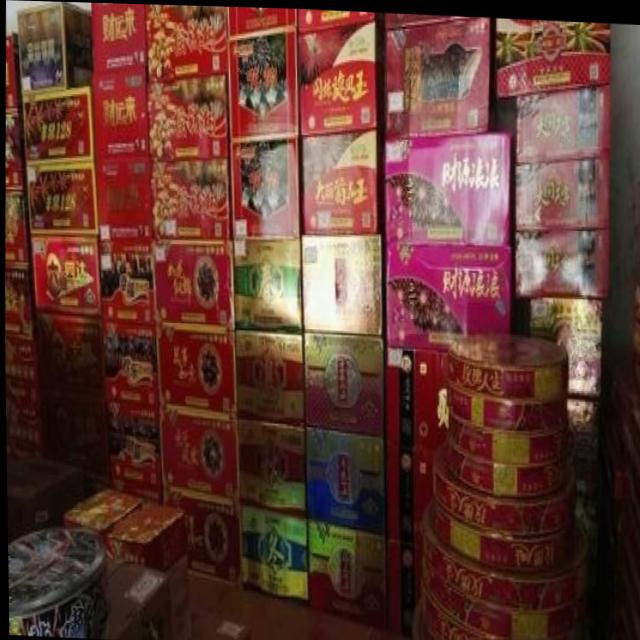box: (384, 123, 513, 243), (385, 240, 522, 349), (382, 14, 495, 134), (297, 16, 383, 135), (495, 15, 610, 93), (305, 516, 384, 626), (301, 127, 383, 231), (304, 425, 382, 532), (302, 329, 381, 434), (300, 229, 380, 332), (145, 68, 229, 162), (227, 26, 297, 138), (150, 237, 234, 330), (161, 483, 238, 582), (236, 499, 307, 604), (515, 79, 609, 158), (157, 404, 236, 497), (515, 154, 609, 231), (154, 325, 236, 413), (529, 294, 601, 394), (5, 452, 83, 544), (229, 134, 298, 237), (16, 1, 91, 95), (148, 155, 231, 238), (236, 413, 303, 514), (232, 236, 301, 333), (384, 345, 448, 449), (515, 224, 608, 295), (234, 330, 303, 425), (102, 497, 186, 573), (145, 3, 227, 79), (102, 397, 161, 502), (43, 386, 107, 481), (29, 232, 101, 316), (35, 309, 102, 397), (21, 83, 93, 164), (103, 557, 170, 639), (25, 162, 98, 235), (385, 434, 432, 545), (90, 77, 148, 165), (96, 237, 154, 325), (100, 316, 157, 404), (91, 2, 147, 83), (92, 160, 150, 237), (62, 485, 144, 538), (384, 535, 423, 636), (564, 393, 598, 498), (171, 599, 249, 640), (4, 331, 44, 407), (5, 399, 48, 463), (4, 258, 37, 335), (226, 5, 297, 38), (4, 181, 30, 264), (4, 108, 26, 191), (297, 7, 374, 28), (165, 554, 188, 624), (383, 10, 474, 27), (5, 31, 22, 114), (169, 603, 191, 640)
